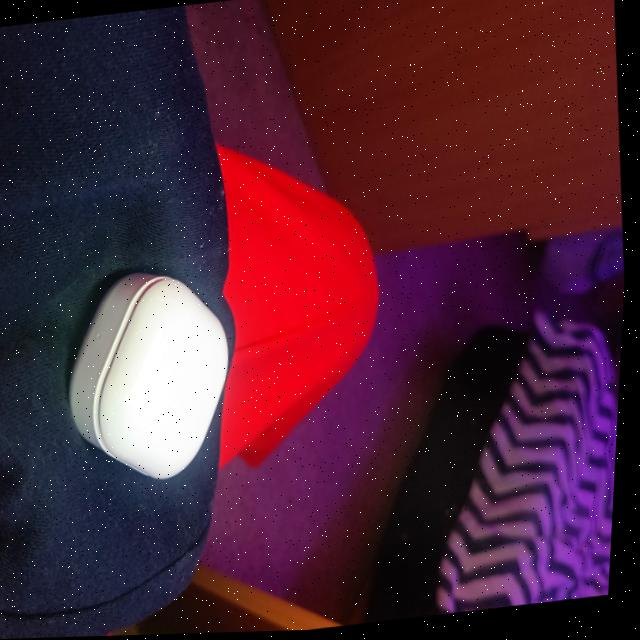headphones: (72, 273, 231, 480)
